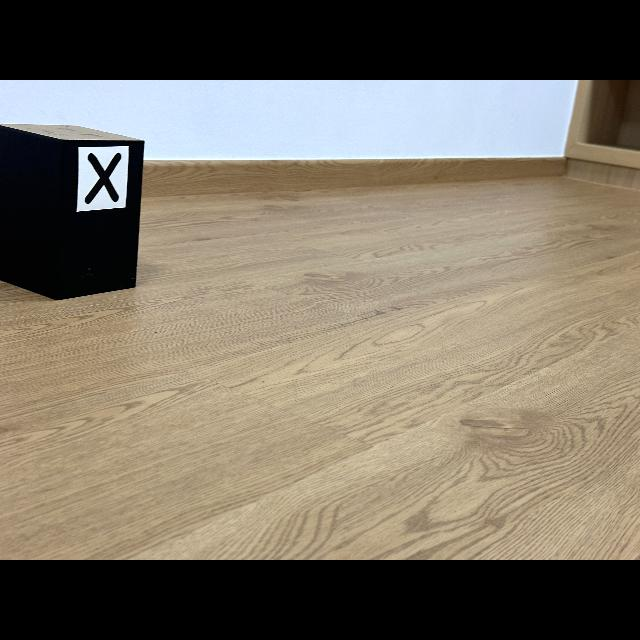X: (85, 152, 121, 204)
